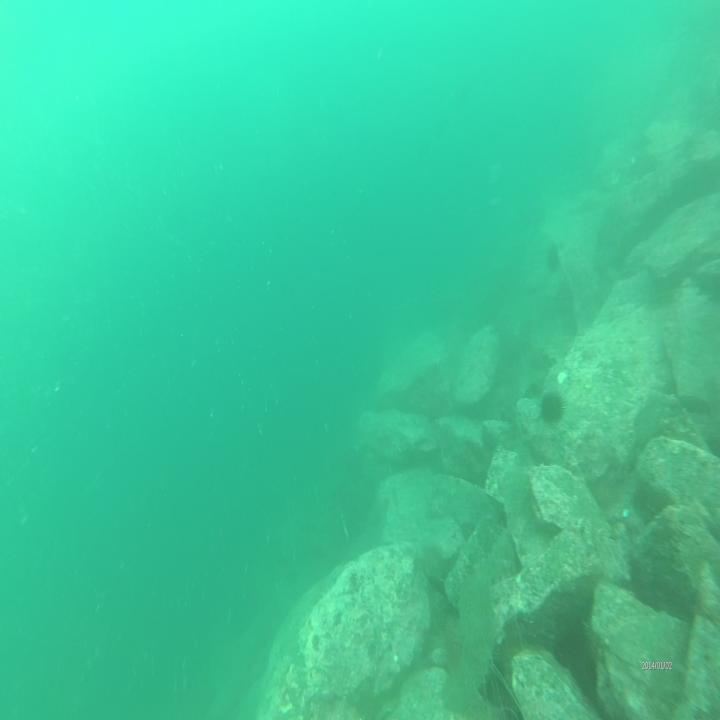echinus: (538, 385, 567, 428), (546, 239, 561, 276)
